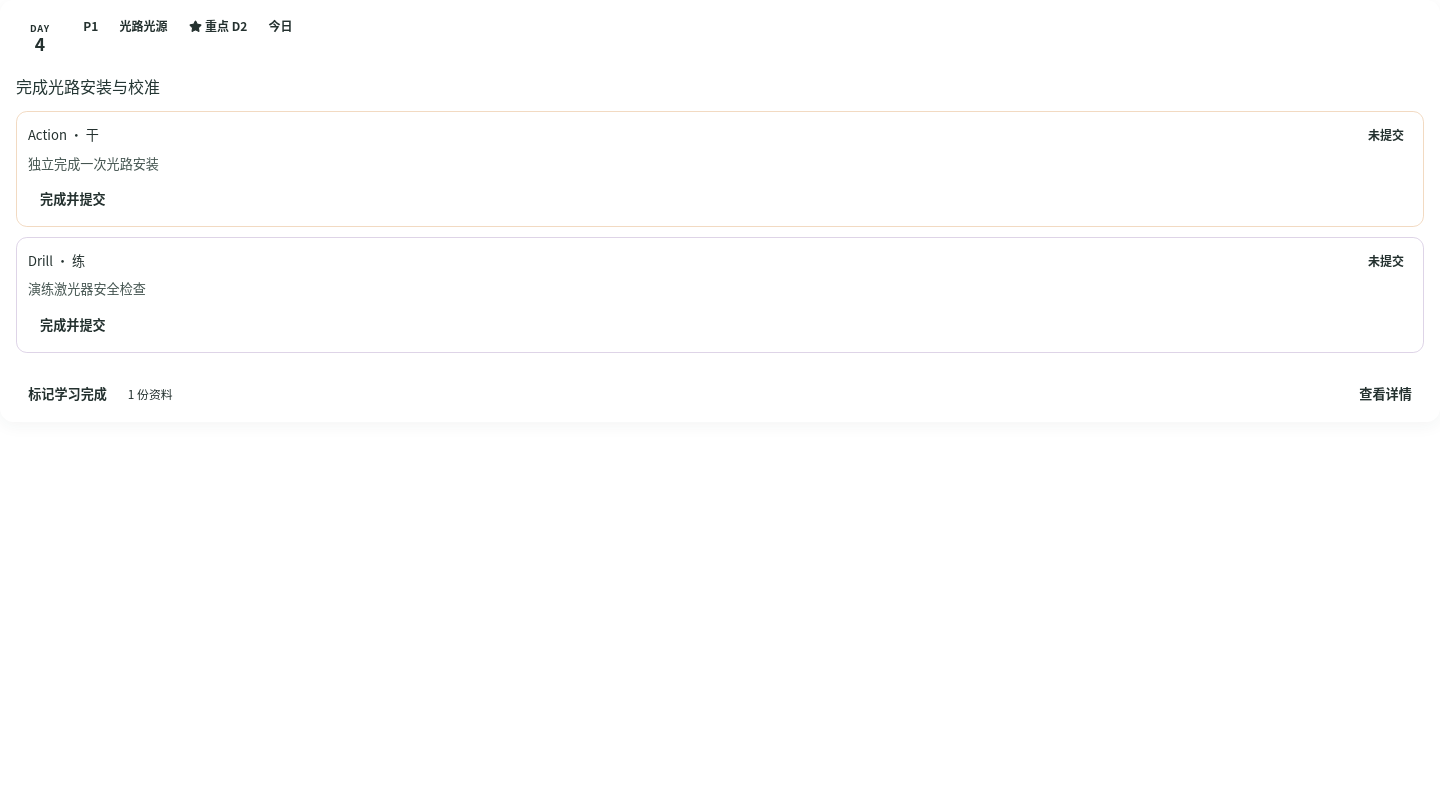
Test: TrainingTaskCard › lets the learner submit Action and Drill without exposing mentor confirmation controls
Expected: the button "标记学习完成" is shown, [16,378,119,410]
Expected: the button with aria-label "提交 Action 已完成" is shown, [28,182,118,215]
Step 1. Click the button with aria-label "查看第 4 天任务详情" → coordinates (1386, 394), box [1347,378,1424,410]
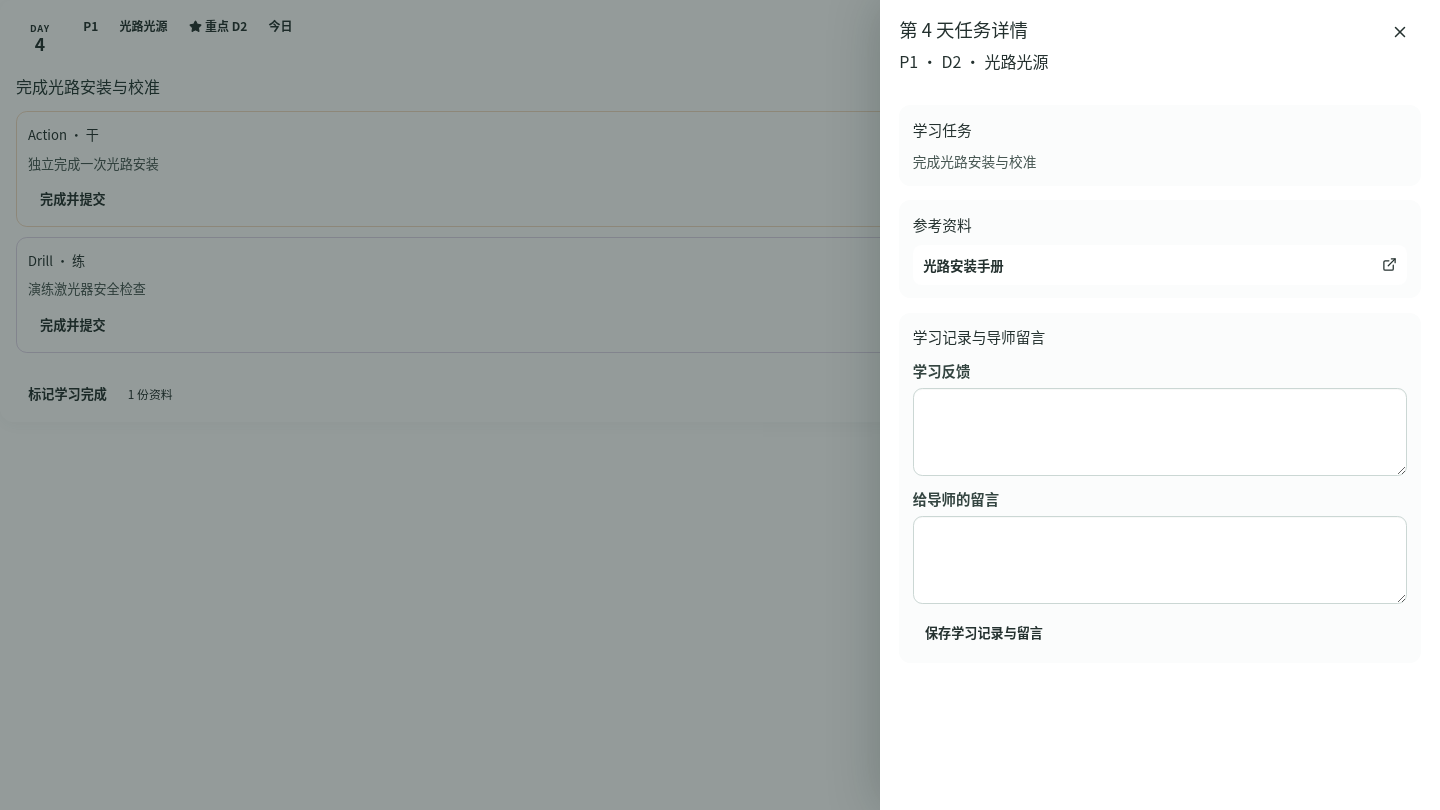
Expected: the text box labelled "学习反馈" is shown, [913,388,1407,476]
Expected: the text box labelled "给导师的留言" is shown, [913,516,1407,604]
